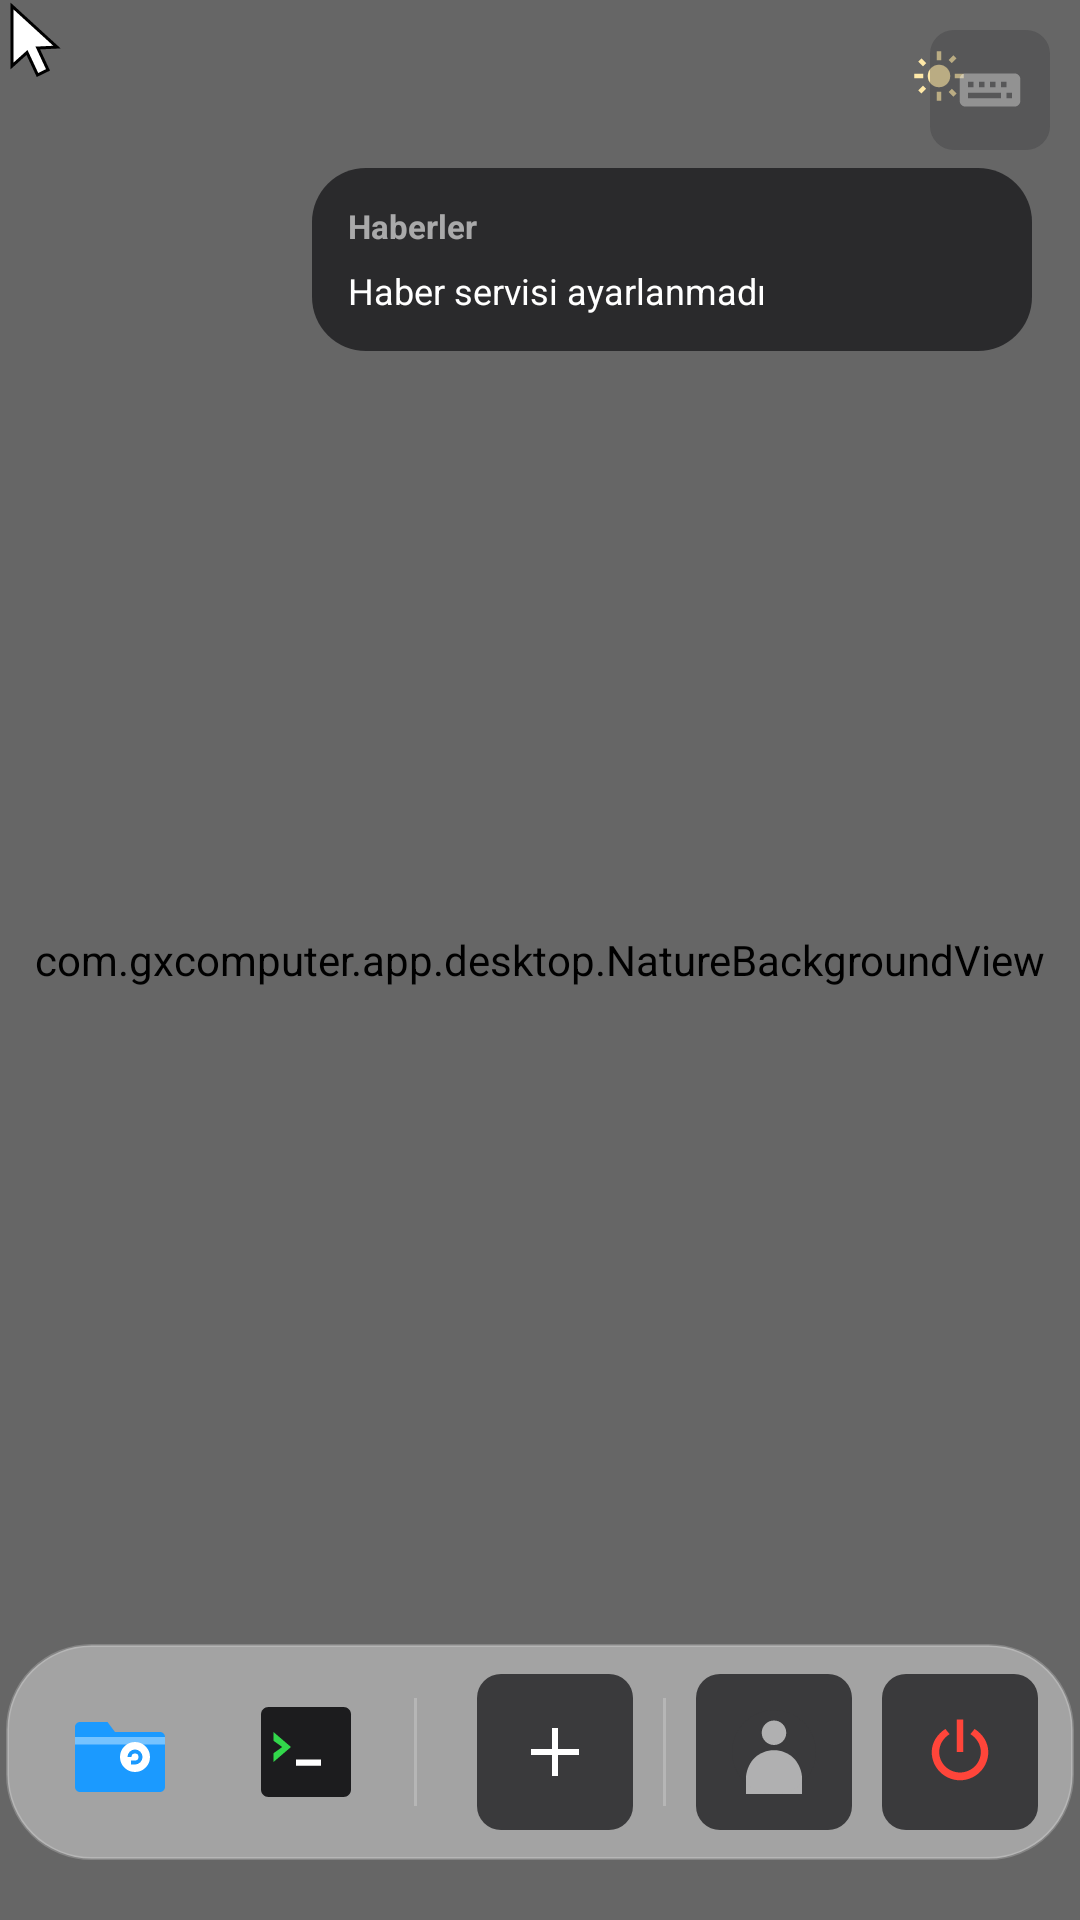

Locate icon controls on the screen. Image size 1080*1920, boxes as (x1, y1, x2, y2).
Bilgisayarı Kapat: (882, 1674, 1038, 1830)
cursor: (10, 3, 60, 77)
Dosyalar: (75, 1722, 165, 1792)
Uygulama Yükle (.exe / .msi): (477, 1674, 633, 1830)
Uçbirim: (261, 1707, 351, 1797)
